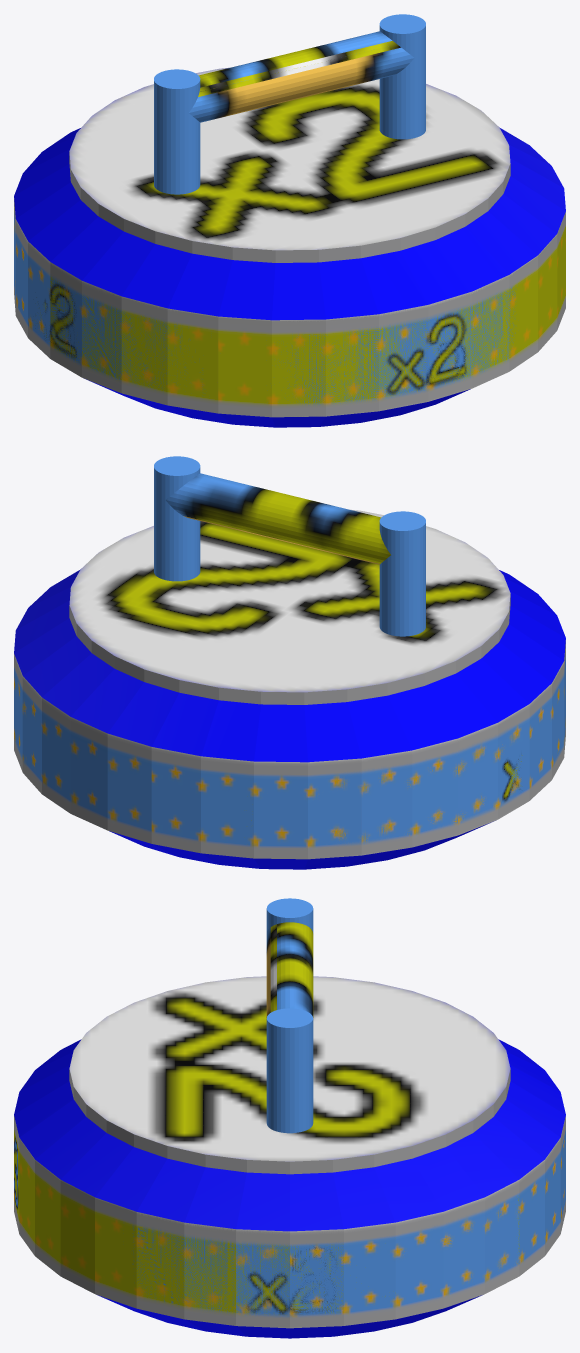
File: stones.fbx
The picture shows the model from 3 angles, top to bottom: view 1: azimuth 30°, elevation 25°; view 2: azimuth 150°, elevation 25°; view 3: azimuth 270°, elevation 25°; orthographic projection.
Parts seen in each view (by area): view 1: B_2stone, B_3stone, B_1stone; view 2: B_2stone, B_1stone, B_3stone; view 3: B_2stone, B_1stone, B_3stone.
Part boxes in pixels (box(x1,y1,x2,y2)): B_2stone: box(14, 14, 565, 416); B_3stone: box(50, 26, 565, 427); B_1stone: box(14, 25, 441, 424); B_2stone: box(14, 456, 565, 857); B_1stone: box(14, 468, 552, 869); B_3stone: box(166, 467, 510, 865); B_2stone: box(14, 898, 565, 1328); B_1stone: box(136, 909, 565, 1338); B_3stone: box(14, 909, 519, 1338).
Bounding box in the file's own units: 128 × 72.36 × 128.
1 material, 1 textured.
